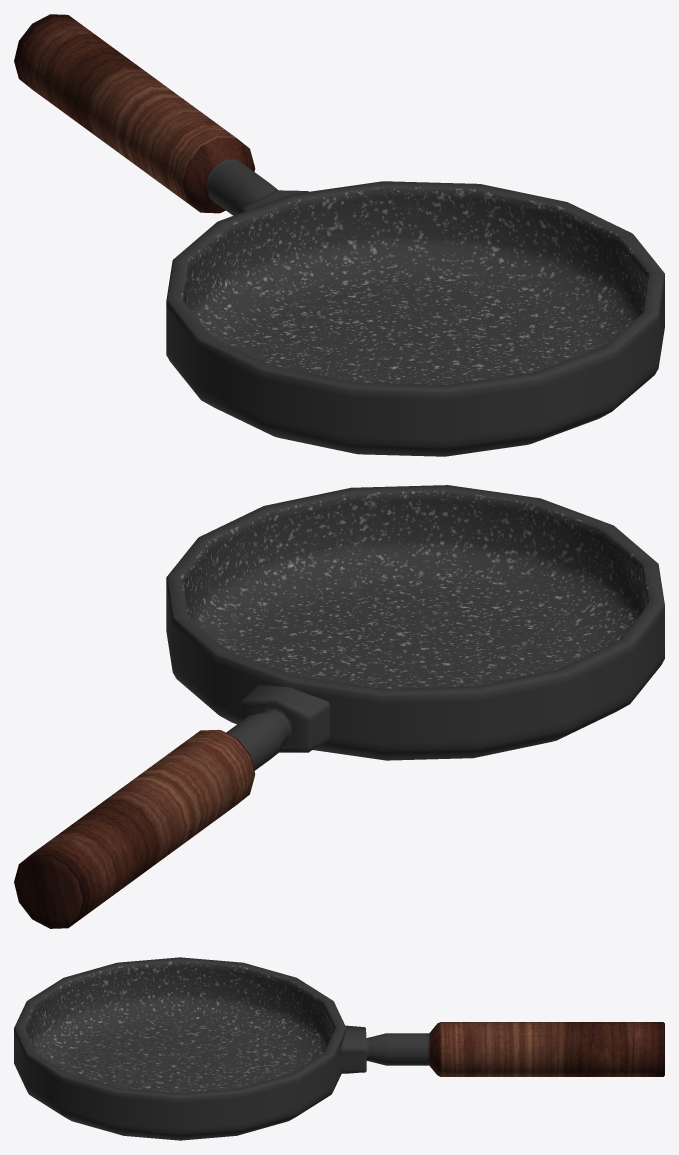
The model's file is frying_pan_3d_model.glb.
The picture shows the model from 3 angles, top to bottom: view 1: azimuth 30°, elevation 25°; view 2: azimuth 150°, elevation 25°; view 3: azimuth 270°, elevation 25°; orthographic projection. The views are drawn at different scales.
Visible parts, largest first — view 1: Circle, Circle.001; view 2: Circle, Circle.001; view 3: Circle, Circle.001.
Part boxes in pixels (x1,y1,x2,y2): Circle: (166,181,664,456); Circle.001: (14,14,308,215); Circle: (166,485,664,760); Circle.001: (14,685,329,928); Circle: (14,957,346,1140); Circle.001: (341,1022,664,1076).
Bounding box in the file's own units: 1.85 × 0.3684 × 3.62.
Materials: 1 (1 with a texture image).
